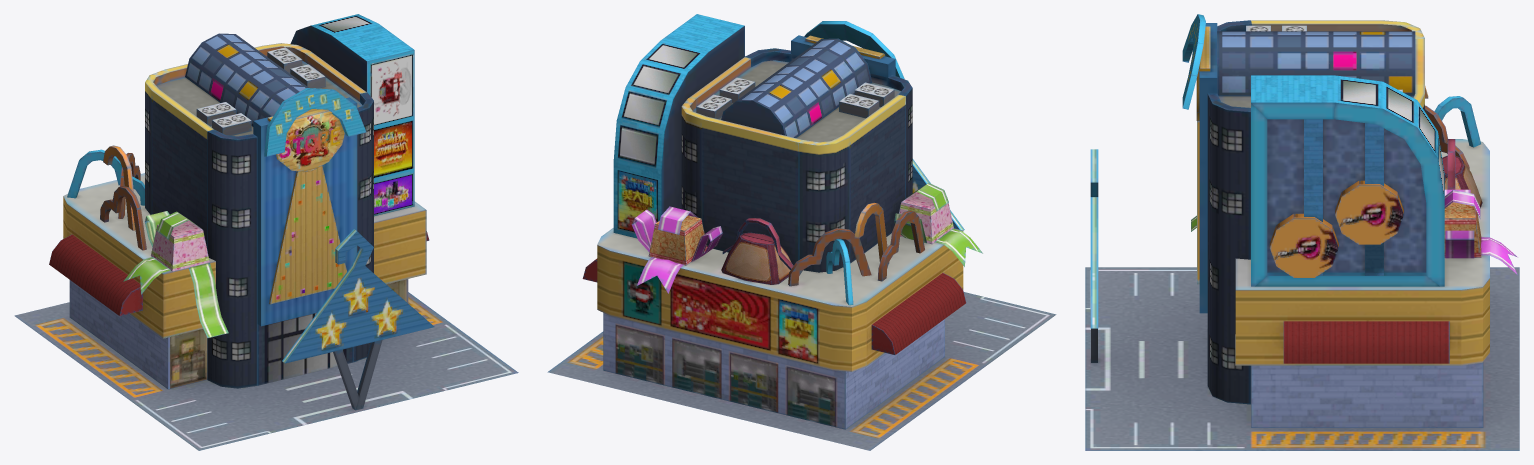
Rendered from xiaoxingKTV.FBX.
3 renders of one model, left to right at view 1: azimuth 30°, elevation 25°; view 2: azimuth 150°, elevation 25°; view 3: azimuth 270°, elevation 25°, orthographic. The views are drawn at different scales.
Visible parts, largest first — view 1: ktv; view 2: ktv; view 3: ktv.
Boxes of the visible parts, box(x1,y1,x2,y2) form: ktv: box(14, 14, 518, 450); ktv: box(547, 14, 1056, 450); ktv: box(1085, 14, 1519, 450).
Size of the model in its own units: 1342 by 1153 by 1342.
1 material, 1 textured.
